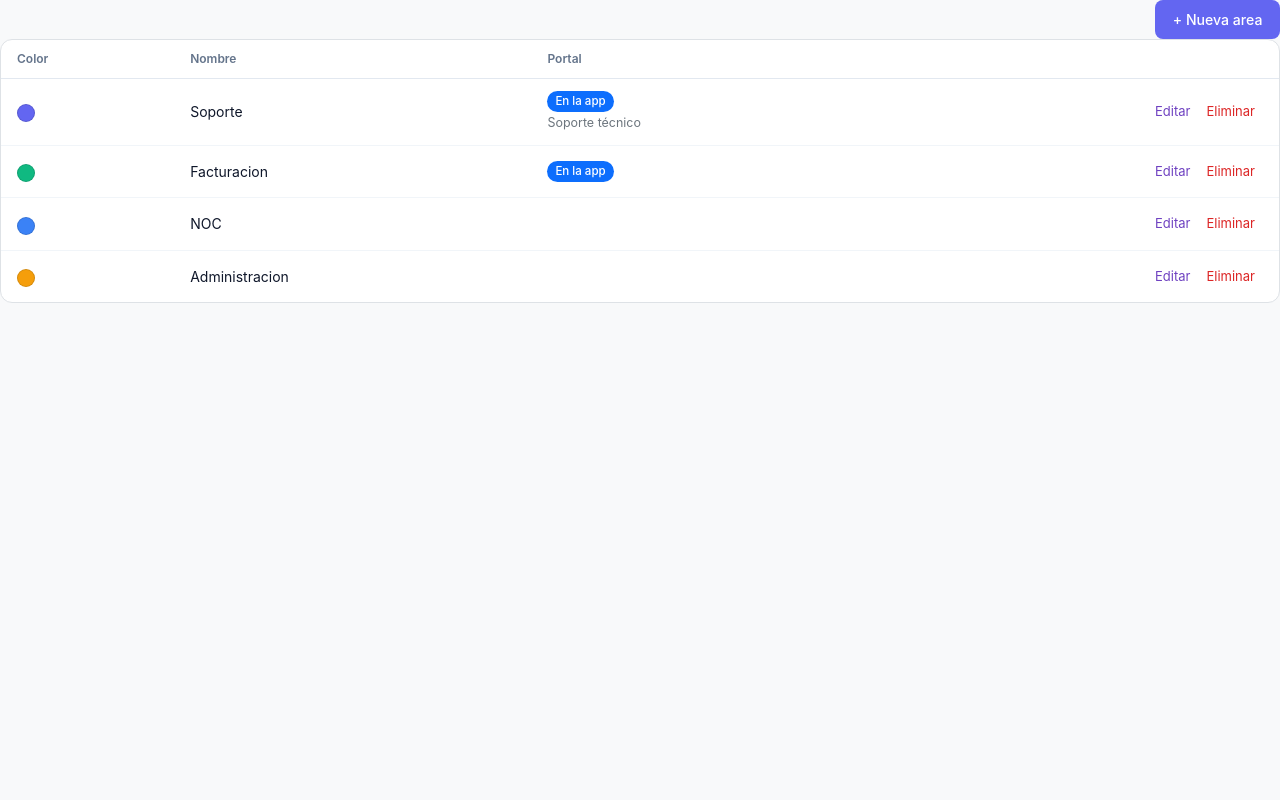
Test: TicketAreasBody › #69 — edit modal prefills the area color
What coordinates should you click on to do the following:
click the button "Editar" in the row of "Soporte técnico"
I would click on:
 (1173, 112)
Its box is [1147, 98, 1198, 125].
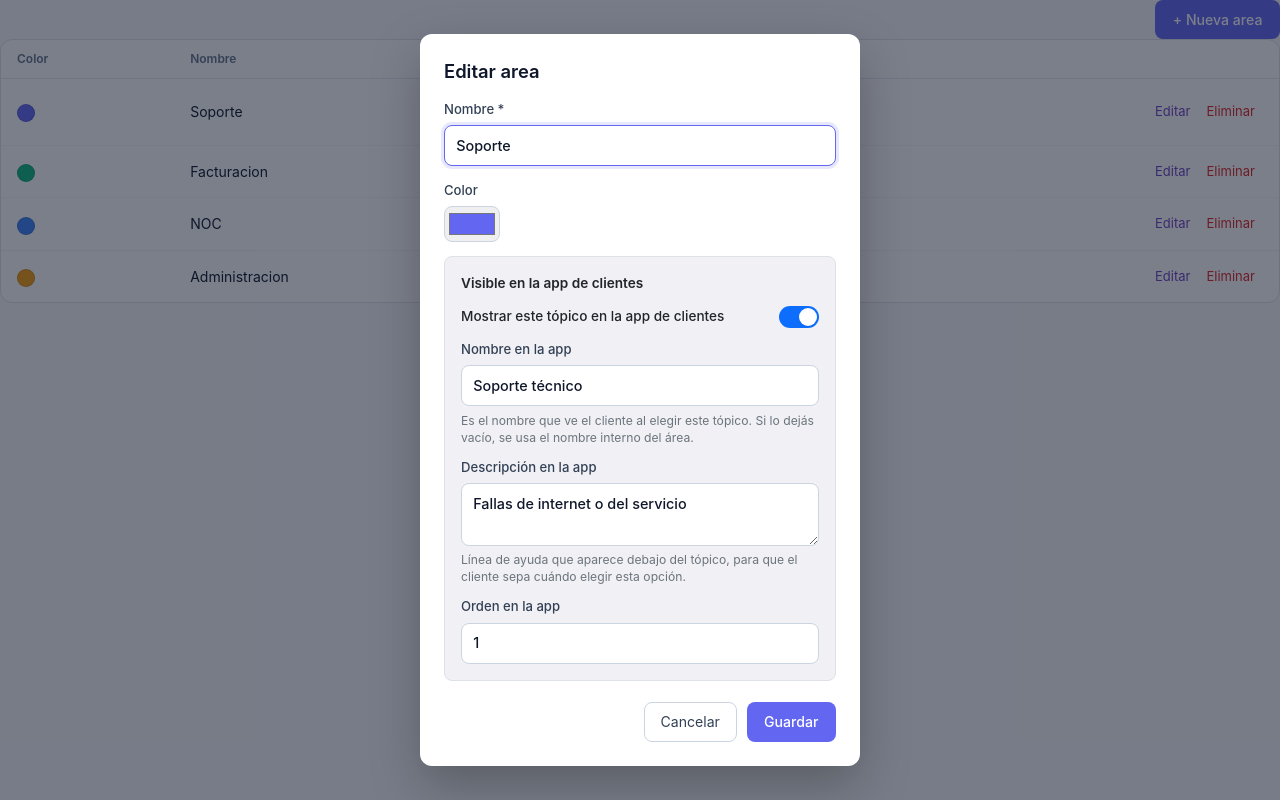
Check: the colour field named "color del area" holds "#6366f1", box [444, 206, 500, 242]
